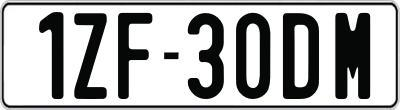0: (234, 13, 268, 100)
1: (36, 10, 62, 99)
3: (187, 12, 229, 100)
D: (283, 13, 324, 101)
F: (115, 13, 152, 101)
M: (334, 12, 374, 99)
Z: (73, 11, 106, 100)
